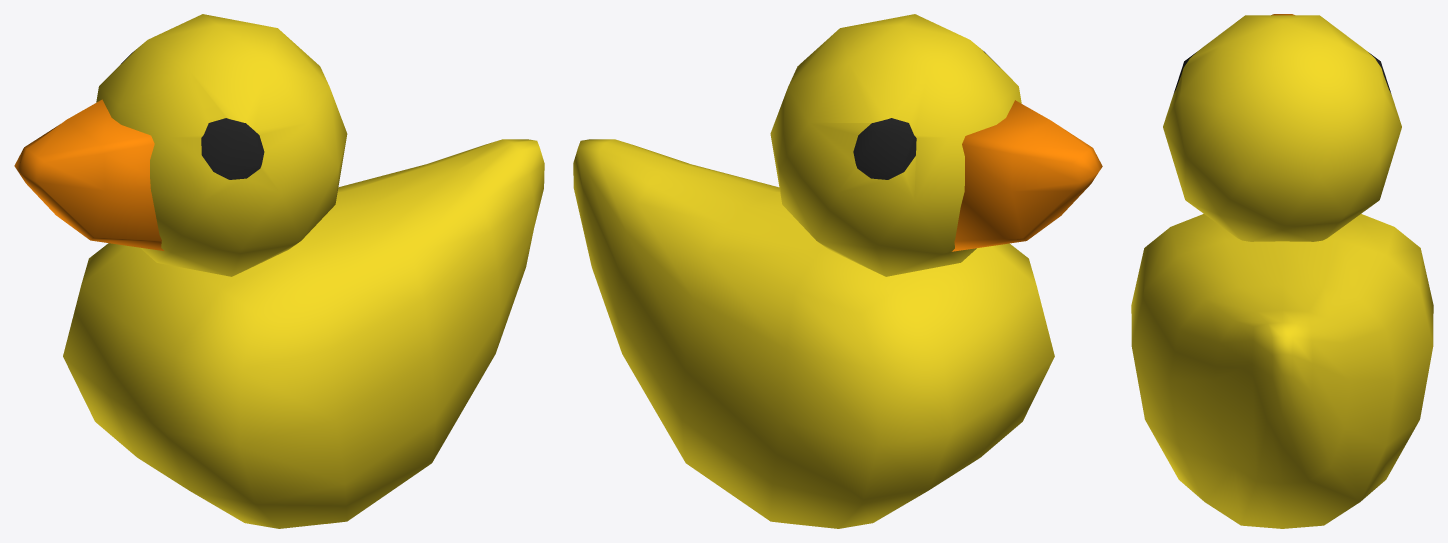
File: ordek.fbx
The picture shows the model from 3 angles, left to right: view 1: azimuth 30°, elevation 25°; view 2: azimuth 150°, elevation 25°; view 3: azimuth 270°, elevation 25°; orthographic projection. The views are drawn at different scales.
Visible parts, largest first — view 1: ordek; view 2: ordek; view 3: ordek.
Boxes of the visible parts, x1,y1,x2,y2 form: ordek: (14,14,544,528); ordek: (573,14,1102,528); ordek: (1131,14,1433,528).
Size of the model in its own units: 275 by 251 by 152.
